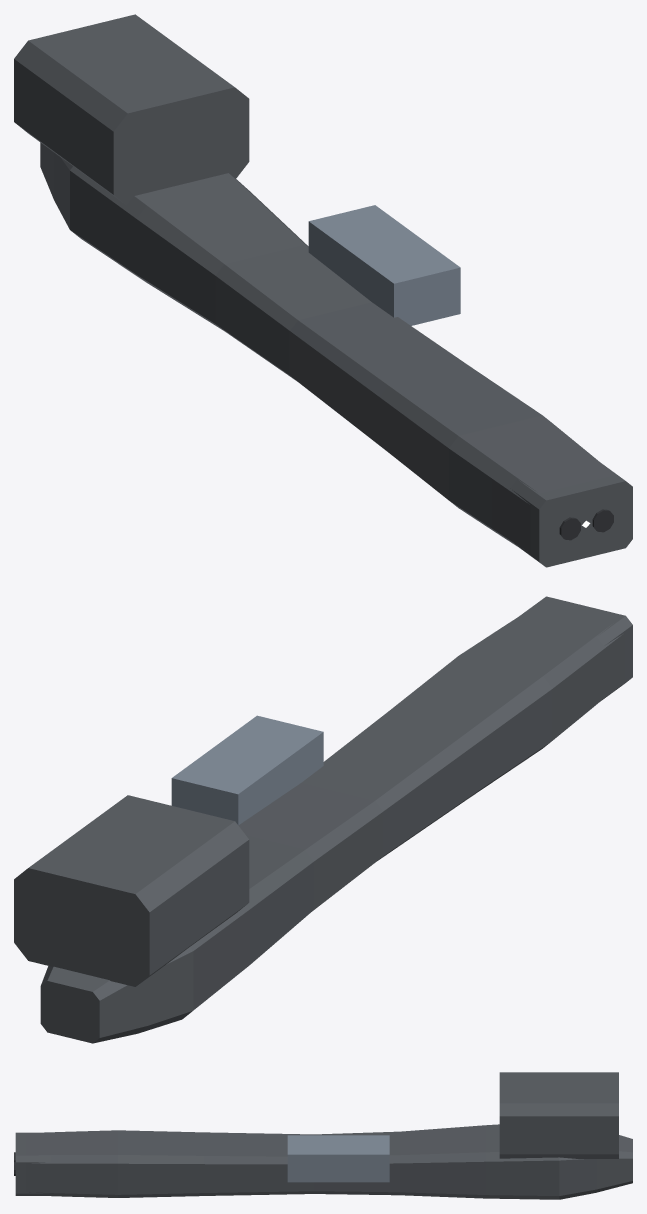
The picture shows the model from 3 angles, top to bottom: view 1: azimuth 30°, elevation 25°; view 2: azimuth 150°, elevation 25°; view 3: azimuth 270°, elevation 25°; orthographic projection. The views are drawn at different scales.
Parts seen in each view (by area): view 1: RIMWARD_HULL; view 2: RIMWARD_HULL; view 3: RIMWARD_HULL.
Part boxes in pixels (x1=…): RIMWARD_HULL: x1=14, y1=14, x2=632, y2=567; RIMWARD_HULL: x1=14, y1=596, x2=632, y2=1043; RIMWARD_HULL: x1=14, y1=1072, x2=632, y2=1199.
Bounding box in the file's own units: 1.38 × 1.27 × 7.27.
